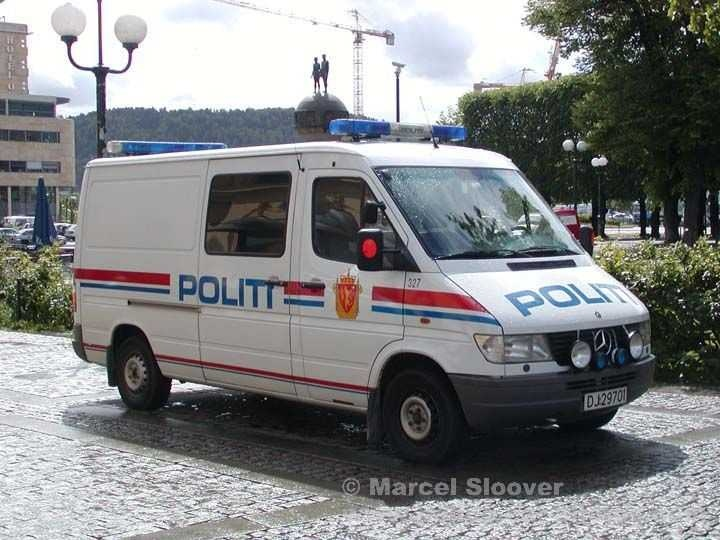Police Van: (85, 113, 655, 433)
